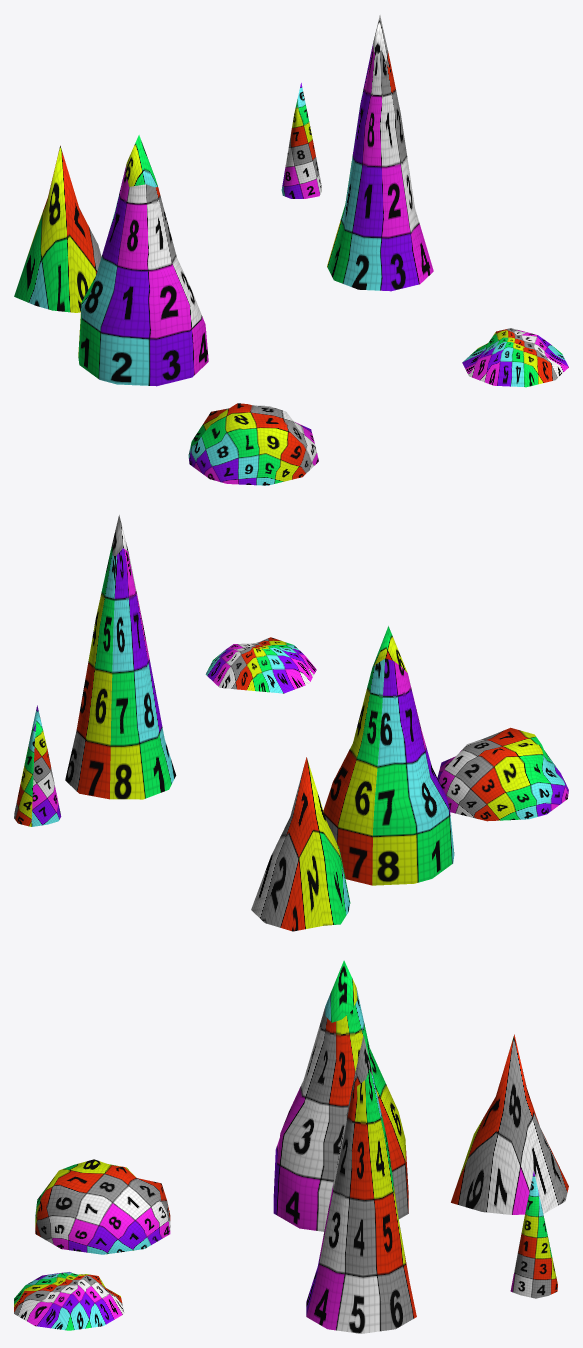
File: Tunnel Caps and Cave Spikes.fbx
3 views of the same model, one above another, from view 1: azimuth 30°, elevation 25°; view 2: azimuth 150°, elevation 25°; view 3: azimuth 270°, elevation 25° (orthographic). The views are drawn at different scales.
Parts seen in each view (by area): view 1: Fat_Spike, Spike, Protruding_rock_2, Short_Spike_2, Protruding_Rock_1, Short_Spike_1; view 2: Fat_Spike, Spike, Short_Spike_2, Protruding_rock_2, Protruding_Rock_1, Short_Spike_1; view 3: Spike, Fat_Spike, Short_Spike_2, Protruding_rock_2, Protruding_Rock_1, Short_Spike_1.
Boxes of the visible parts, x1=… form: Fat_Spike: x1=78, y1=135, x2=208, y2=386; Spike: x1=327, y1=15, x2=433, y2=291; Protruding_rock_2: x1=188, y1=403, x2=318, y2=485; Short_Spike_2: x1=14, y1=145, x2=101, y2=312; Protruding_Rock_1: x1=462, y1=328, x2=568, y2=387; Short_Spike_1: x1=281, y1=83, x2=321, y2=198; Fat_Spike: x1=323, y1=626, x2=454, y2=885; Spike: x1=65, y1=515, x2=176, y2=799; Short_Spike_2: x1=251, y1=757, x2=350, y2=931; Protruding_rock_2: x1=437, y1=727, x2=568, y2=821; Protruding_Rock_1: x1=205, y1=637, x2=316, y2=693; Short_Spike_1: x1=14, y1=705, x2=61, y2=826; Spike: x1=306, y1=1035, x2=416, y2=1333; Fat_Spike: x1=273, y1=960, x2=408, y2=1231; Short_Spike_2: x1=451, y1=1034, x2=568, y2=1214; Protruding_rock_2: x1=35, y1=1159, x2=170, y2=1254; Protruding_Rock_1: x1=14, y1=1272, x2=124, y2=1330; Short_Spike_1: x1=510, y1=1171, x2=557, y2=1298.
Bounding box in the file's own units: 75.73 × 61.74 × 97.02.
1 material, 1 textured.
